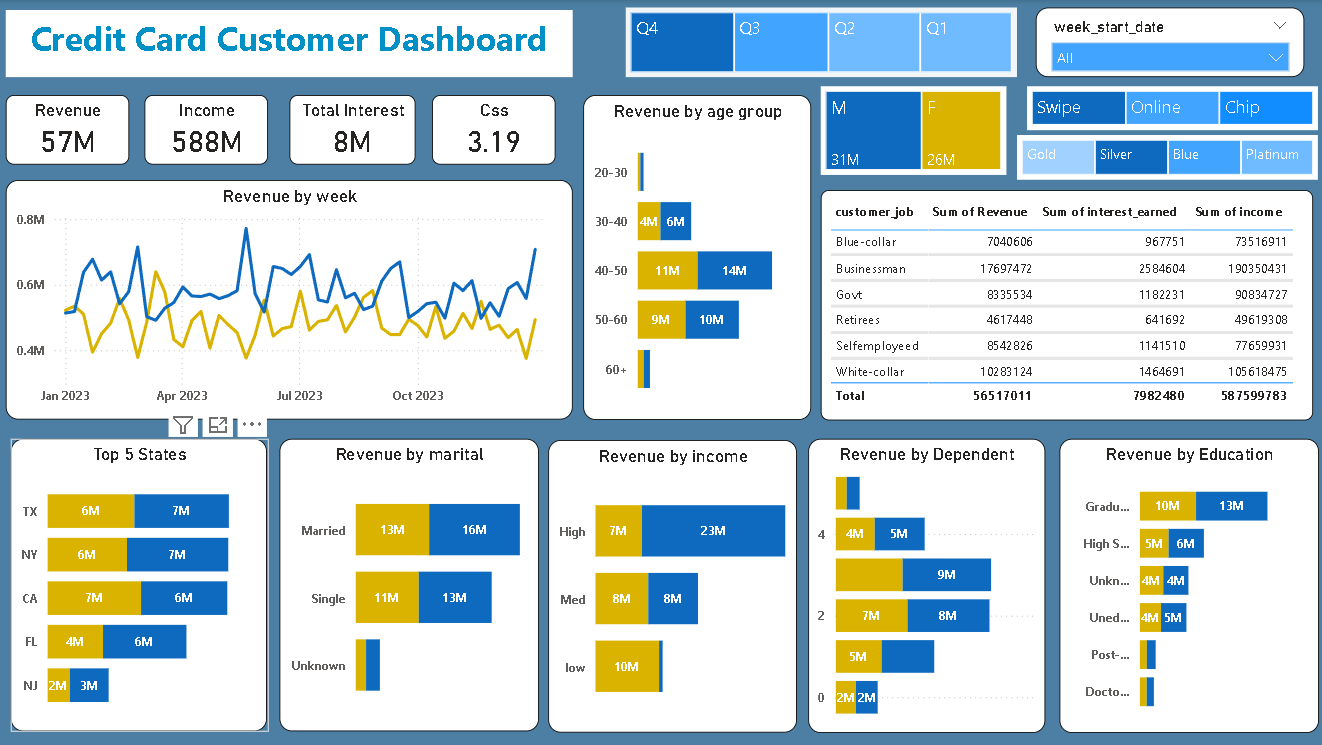

The page's visual inventory and layout, read from the dashboard file:
{"tool":"powerbi","page":{"name":"cc Customer","canvas":[1280,720],"ordinal":1},"visuals":[{"type":"textbox","box":[8.7,10,547.4,64.7],"z":0},{"type":"tableEx","fields":{"Values":["public cust_detail.customer_job","Sum(public cc_detail.Revenue)","Sum(public cc_detail.interest_earned)","Sum(public cust_detail.income)"]},"box":[795,182.9,475.3,222.7],"z":1000},{"type":"card","title":"Revenue","fields":{"Values":["Sum(public cc_detail.Revenue)"]},"box":[8.4,91.7,119.4,67.6],"z":2000},{"type":"card","title":"Income","fields":{"Values":["Sum(public cust_detail.income)"]},"box":[142.4,91.7,119.4,67.6],"z":3000},{"type":"card","title":"Total Interest","fields":{"Values":["Sum(public cc_detail.interest_earned)"]},"box":[282.3,91.7,121.9,67.6],"z":4000},{"type":"card","title":"Css","fields":{"Values":["Avg(public cust_detail.cust_satisfaction_score)"]},"box":[419.8,91.7,119.4,67.6],"z":5000},{"type":"slicer","fields":{"Values":["public cc_detail.week_start_date"]},"box":[1002.6,7.2,259.4,67.6],"z":6000},{"type":"treemap","fields":{"Group":["public cc_detail.qtr"],"Values":["Avg(public cc_detail.client_num)"]},"box":[606.8,7.2,377.6,67.6],"z":7000},{"type":"treemap","fields":{"Values":["Avg(public cc_detail.client_num)"],"Details":["public cc_detail.use_chip"]},"box":[994.1,83.4,281.2,42.3],"z":8000},{"type":"treemap","fields":{"Values":["Avg(public cc_detail.client_num)"],"Group":["public cc_detail.card_category"]},"box":[984.5,130.3,290.8,43.4],"z":9000},{"type":"barChart","title":"Revenue by income","fields":{"Y":["Sum(public cc_detail.Revenue)"],"Category":["public cust_detail.IncomeGroup"],"Series":["public cust_detail.gender"]},"box":[532.5,424.3,240.1,282.4],"z":10000},{"type":"lineChart","title":"Revenue by week","fields":{"Y":["Sum(public cc_detail.Revenue)"],"Series":["public cust_detail.gender"],"Category":["public cc_detail.week_start_date.Variation.Date Hierarchy.Year","public cc_detail.week_start_date.Variation.Date Hierarchy.Month","public cc_detail.week_start_date.Variation.Date Hierarchy.Day"]},"box":[8.7,174.2,547.4,231.4],"z":11000},{"type":"treemap","fields":{"Group":["public cust_detail.gender"],"Values":["Sum(public cc_detail.Revenue)"]},"box":[795,83.4,179.2,85.8],"z":12000},{"type":"barChart","title":"Revenue by age group","fields":{"Y":["Sum(public cc_detail.Revenue)"],"Category":["public cust_detail.AgeGroup"],"Series":["public cust_detail.gender"]},"box":[566.1,92.1,220.2,313.5],"z":13000},{"type":"barChart","title":"Revenue by Dependent","fields":{"Y":["Sum(public cc_detail.Revenue)"],"Category":["public cust_detail.dependent_count"],"Series":["public cust_detail.gender"]},"box":[782.6,423,228.9,283.7],"z":14000},{"type":"barChart","title":"Revenue by Education","fields":{"Y":["Sum(public cc_detail.Revenue)"],"Category":["public cust_detail.education_level"],"Series":["public cust_detail.gender"]},"box":[1025.2,423,250.1,283.7],"z":15000},{"type":"barChart","title":"Top 5 States","fields":{"Y":["Sum(public cc_detail.Revenue)"],"Category":["public cust_detail.state_cd"],"Series":["public cust_detail.gender"]},"box":[13.7,423,247.6,282.4],"z":16000},{"type":"barChart","title":"Revenue by marital","fields":{"Y":["Sum(public cc_detail.Revenue)"],"Category":["public cust_detail.marital_status"],"Series":["public cust_detail.gender"]},"box":[272.5,423,250.1,282.4],"z":17000}]}

Visuals, with their boxes in screenshot pixels (x1, y1, x2, y2), scaled from the page's 1280x720 canvas onto the 1322x745 screenshot:
textbox: bbox=(9, 10, 574, 77)
tableEx - public cust_detail.customer_job x Sum(public cc_detail.Revenue): bbox=(821, 189, 1312, 420)
"Revenue" card: bbox=(9, 95, 132, 165)
"Income" card: bbox=(147, 95, 270, 165)
"Total Interest" card: bbox=(292, 95, 417, 165)
"Css" card: bbox=(434, 95, 557, 165)
slicer - public cc_detail.week_start_date: bbox=(1035, 7, 1303, 77)
treemap - public cc_detail.qtr x Avg(public cc_detail.client_num): bbox=(627, 7, 1017, 77)
treemap - Avg(public cc_detail.client_num) x public cc_detail.use_chip: bbox=(1027, 86, 1317, 130)
treemap - Avg(public cc_detail.client_num) x public cc_detail.card_category: bbox=(1017, 135, 1317, 180)
"Revenue by income" barChart: bbox=(550, 439, 798, 731)
"Revenue by week" lineChart: bbox=(9, 180, 574, 420)
treemap - public cust_detail.gender x Sum(public cc_detail.Revenue): bbox=(821, 86, 1006, 175)
"Revenue by age group" barChart: bbox=(585, 95, 812, 420)
"Revenue by Dependent" barChart: bbox=(808, 438, 1045, 731)
"Revenue by Education" barChart: bbox=(1059, 438, 1317, 731)
"Top 5 States" barChart: bbox=(14, 438, 270, 730)
"Revenue by marital" barChart: bbox=(281, 438, 540, 730)
